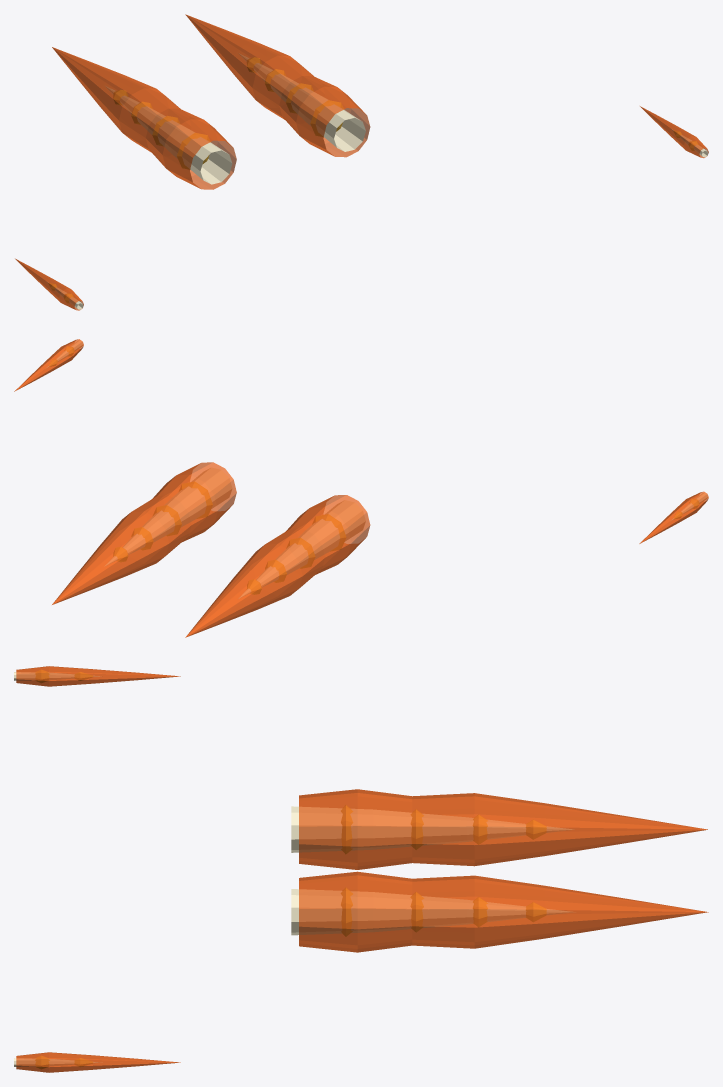
Rendered from player_thruster_plume.obj.
3 renders of one model, top to bottom at view 1: azimuth 30°, elevation 25°; view 2: azimuth 150°, elevation 25°; view 3: azimuth 270°, elevation 25°, orthographic. The views are drawn at different scales.
Parts seen in each view (by area): view 1: outer_plume, plume_core, shock_diamonds; view 2: outer_plume, plume_core, shock_diamonds; view 3: outer_plume, plume_core, shock_diamonds.
Part boxes in pixels (x1,y1,x2,y2): outer_plume: (15,14,708,310); plume_core: (47,53,708,309); shock_diamonds: (49,57,698,302); outer_plume: (14,339,708,637); plume_core: (47,340,707,598); shock_diamonds: (49,346,698,594); outer_plume: (16,666,708,1072); plume_core: (14,672,573,1066); shock_diamonds: (35,670,546,1068).
Size of the model in its own units: 11.98 by 1.04 by 8.9.
